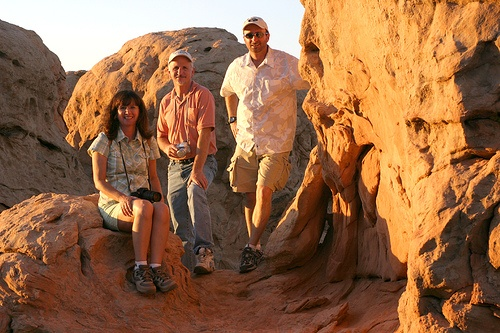head: (237, 13, 277, 60), (167, 48, 196, 88), (114, 92, 142, 127)
person: (220, 14, 309, 269), (89, 94, 178, 293), (152, 45, 217, 277)
